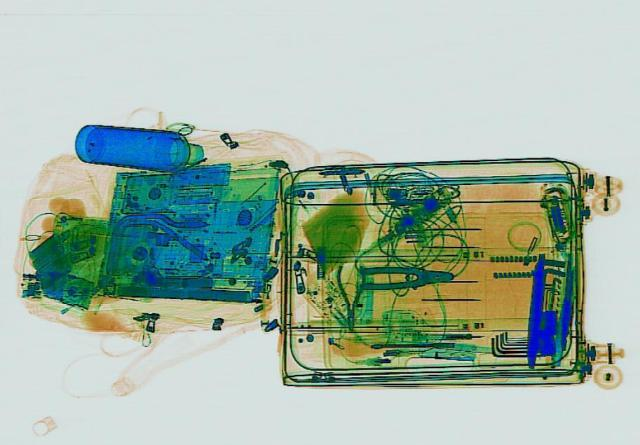Pliers: (356, 264, 452, 288), (334, 264, 364, 331)
